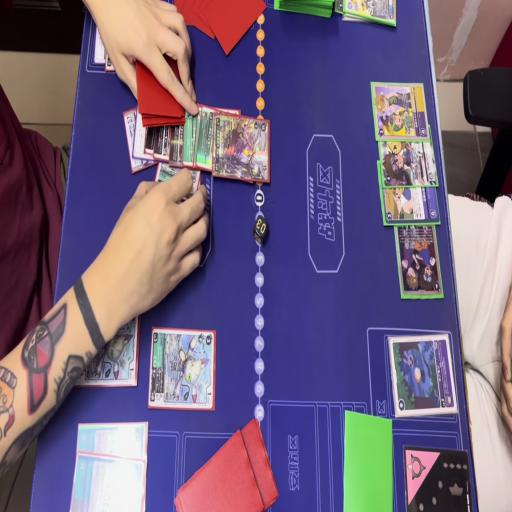card: (146, 328, 220, 416), (388, 330, 458, 422), (72, 307, 142, 391), (70, 450, 145, 512), (212, 113, 273, 187), (392, 221, 444, 306), (78, 419, 151, 477), (374, 81, 432, 140), (377, 136, 438, 190), (122, 104, 164, 178), (382, 182, 442, 230), (134, 98, 160, 165), (343, 0, 400, 30), (198, 106, 220, 177), (184, 100, 202, 170), (153, 117, 177, 168), (167, 114, 187, 174)
